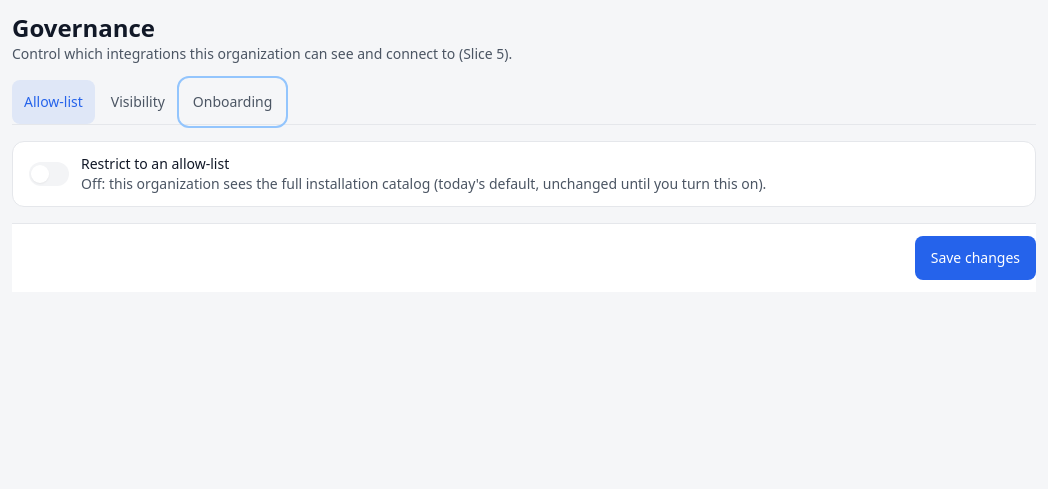
Test: GovernancePage › the Onboarding tab disables adding another featured integration once the cap is reached
The width and height of the screenshot is (1048, 489).
Click the tab "Onboarding". click: (233, 102)
box: [181,80,284,124]
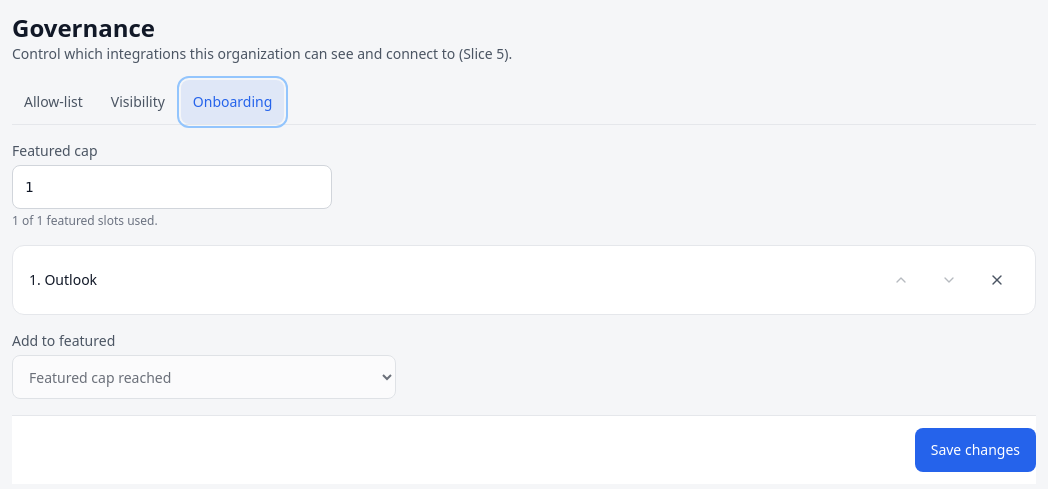
Check: the dropdown labelled "Add to featured" is disabled, box [12,355,396,399]
